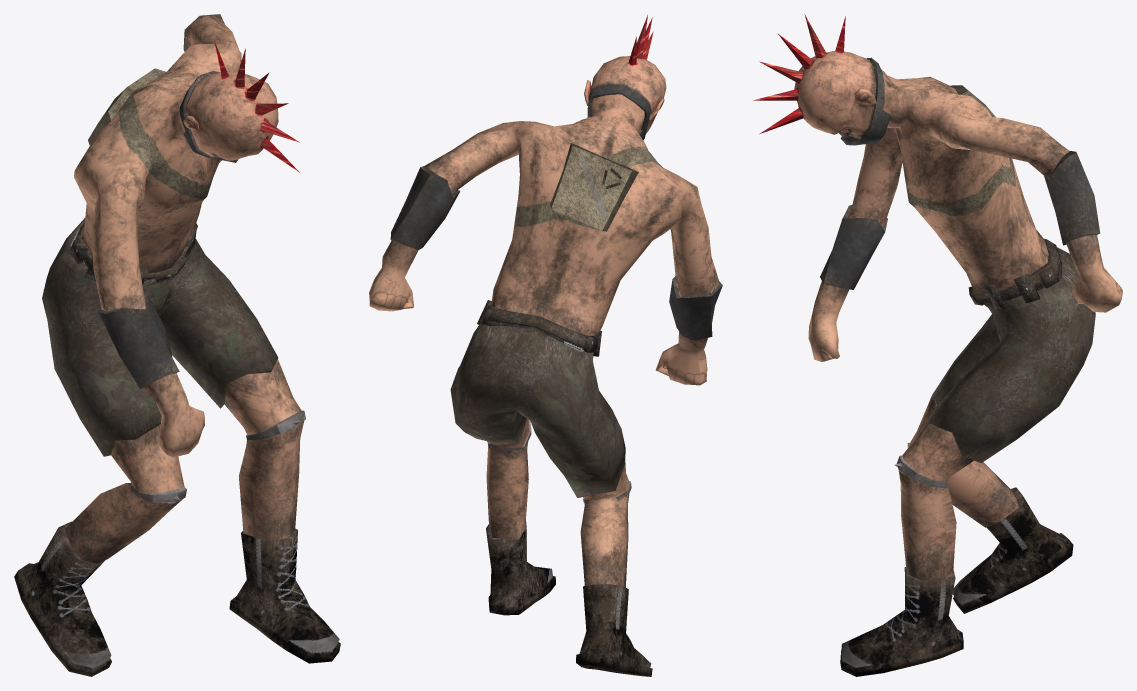
Rendered from Anim_cogerobjeto_npc2.0031.obj.
3 renders of one model, left to right at view 1: azimuth 30°, elevation 25°; view 2: azimuth 150°, elevation 25°; view 3: azimuth 270°, elevation 25°, orthographic. The views are drawn at different scales.
Parts seen in each view (by area): view 1: polySurface1; view 2: polySurface1; view 3: polySurface1.
Boxes of the visible parts, x1=… form: polySurface1: x1=14, y1=14, x2=340, y2=676; polySurface1: x1=369, y1=15, x2=722, y2=676; polySurface1: x1=752, y1=14, x2=1122, y2=676.
Bounding box in the file's own units: 3.46 × 8.45 × 4.56.
